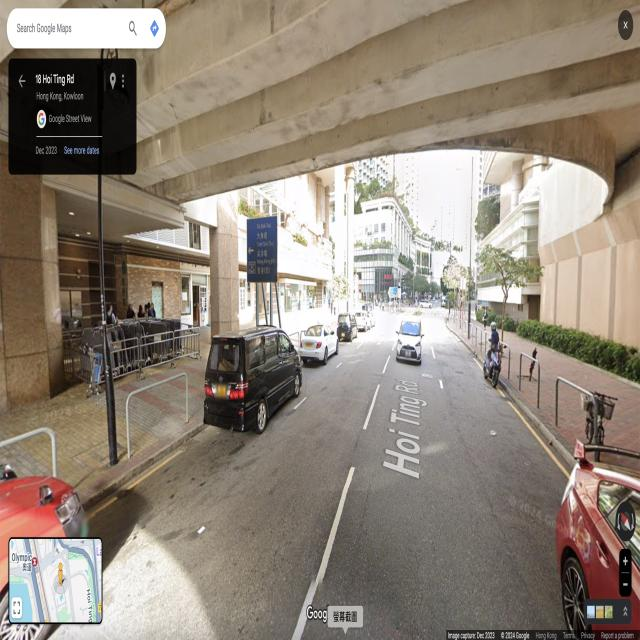Direction-Sign: (246, 216, 277, 283)
